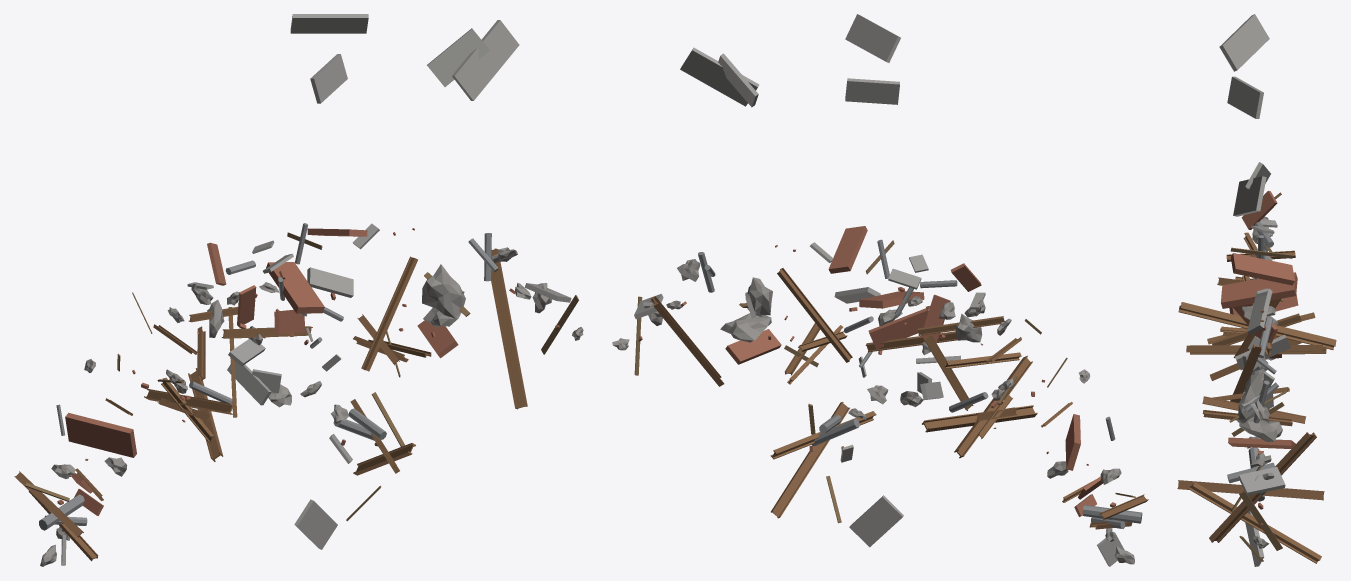
Rendered from batch_RUBBLE_p001_p001.glb.
3 views of the same model, side by side, from view 1: azimuth 30°, elevation 25°; view 2: azimuth 150°, elevation 25°; view 3: azimuth 270°, elevation 25° (orthographic). The views are drawn at different scales.
Visible parts, largest first — view 1: SAR_Building_URB_001_CollapsedSlab_01.001; view 2: SAR_Building_URB_001_CollapsedSlab_01.001; view 3: SAR_Building_URB_001_CollapsedSlab_01.001.
Part boxes in pixels (bbox=[...]): SAR_Building_URB_001_CollapsedSlab_01.001: bbox=[14, 14, 583, 566]; SAR_Building_URB_001_CollapsedSlab_01.001: bbox=[612, 14, 1148, 566]; SAR_Building_URB_001_CollapsedSlab_01.001: bbox=[1177, 14, 1336, 566].
Size of the model in its own units: 33.58 by 31.45 by 8.41.
